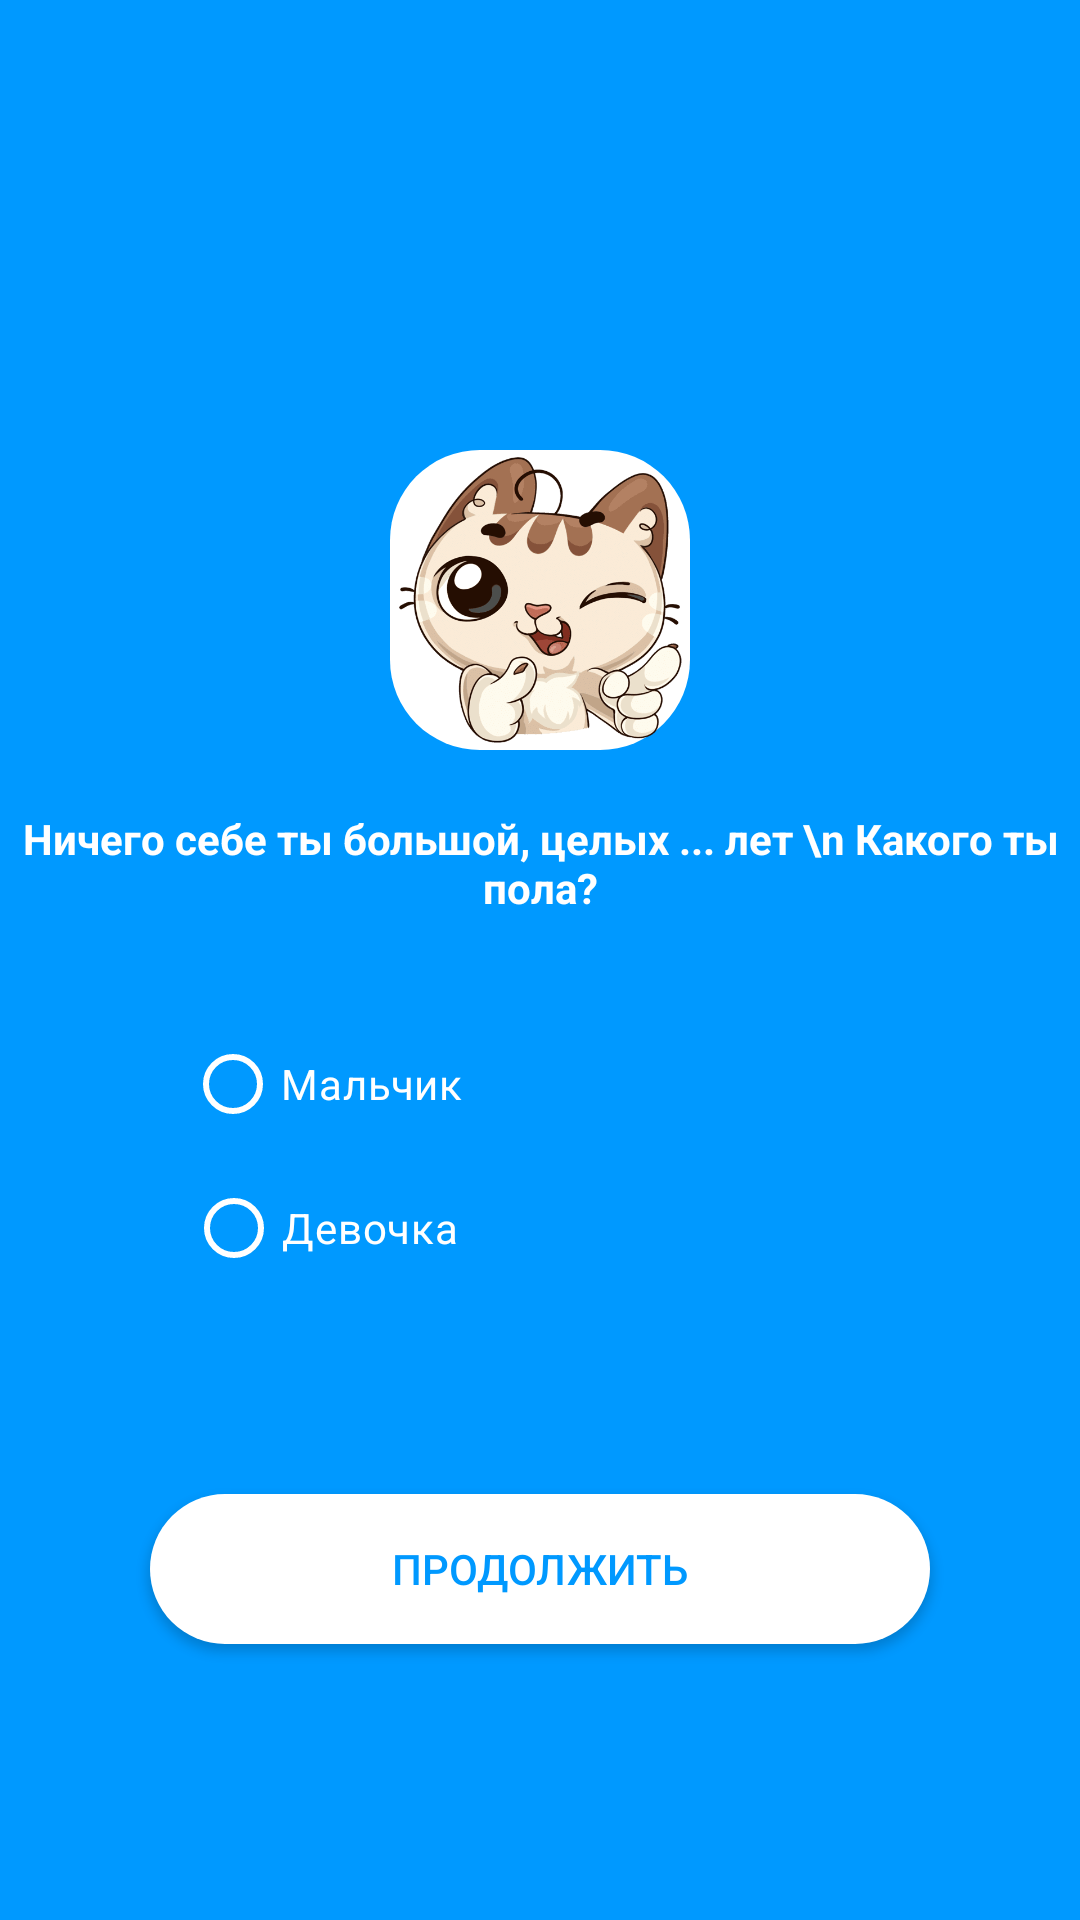

Named icons in this screenshot (1080x1920) and their bounding boxes, bbox(x1, y1, x2, y2):
cat: bbox(390, 450, 690, 750)
